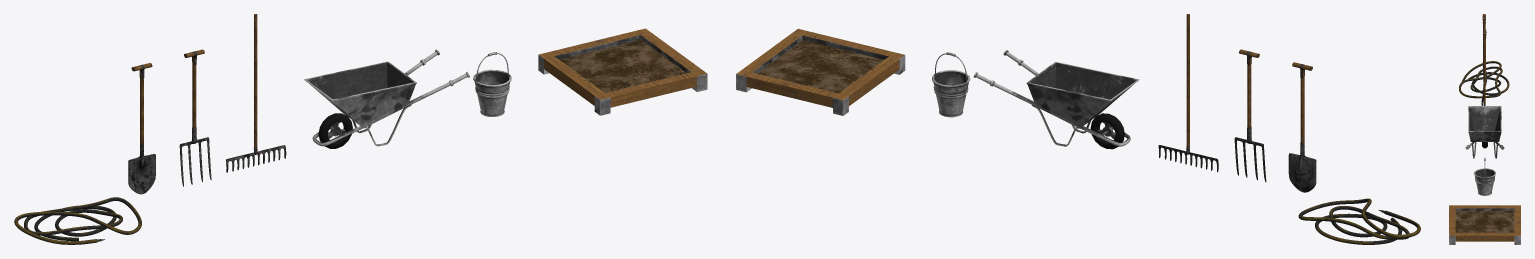
File: garden_tools_pack.glb
The picture shows the model from 3 angles, left to right: view 1: azimuth 30°, elevation 25°; view 2: azimuth 150°, elevation 25°; view 3: azimuth 270°, elevation 25°; orthographic projection. The views are drawn at different scales.
Parts seen in each view (by area): view 1: Cube.001, Cube.003, Cube.002, NurbsPath.003, Cylinder.018, Plane, NurbsPath, Cylinder.015, Plane.001, Plane.002, Cylinder.014; view 2: Cube.001, Cube.003, Cube.002, NurbsPath.003, Cylinder.018, Plane, NurbsPath, Cylinder.015, Plane.001, Cylinder.014, Plane.002; view 3: Cube.001, Cube.002, Cube.003, NurbsPath.003, Cylinder.018, Cylinder.014, NurbsPath.001, Cylinder.007, NurbsPath.
Boxes of the visible parts, bbox=[...] form: Cube.001: bbox=[538, 28, 707, 115]; Cube.003: bbox=[304, 61, 416, 127]; Cube.002: bbox=[559, 39, 686, 92]; NurbsPath.003: bbox=[14, 197, 141, 244]; Cylinder.018: bbox=[473, 69, 511, 116]; Plane: bbox=[128, 143, 155, 194]; NurbsPath: bbox=[312, 49, 469, 146]; Cylinder.015: bbox=[318, 113, 352, 148]; Plane.001: bbox=[179, 127, 211, 186]; Plane.002: bbox=[226, 145, 286, 172]; Cylinder.014: bbox=[254, 14, 257, 147]; Cube.001: bbox=[736, 28, 905, 115]; Cube.003: bbox=[1026, 62, 1139, 127]; Cube.002: bbox=[757, 40, 883, 93]; NurbsPath.003: bbox=[1298, 198, 1420, 244]; Cylinder.018: bbox=[932, 70, 970, 117]; Plane: bbox=[1288, 142, 1316, 192]; NurbsPath: bbox=[973, 50, 1130, 146]; Cylinder.015: bbox=[1090, 113, 1124, 149]; Plane.001: bbox=[1234, 127, 1266, 181]; Cylinder.014: bbox=[1186, 14, 1189, 147]; Plane.002: bbox=[1158, 145, 1218, 172]; Cube.001: bbox=[1449, 205, 1520, 244]; Cube.002: bbox=[1455, 211, 1514, 232]; Cube.003: bbox=[1468, 106, 1501, 141]; NurbsPath.003: bbox=[1459, 61, 1509, 98]; Cylinder.018: bbox=[1473, 168, 1496, 195]; Cylinder.014: bbox=[1483, 35, 1485, 105]; NurbsPath.001: bbox=[1472, 142, 1497, 158]; Cylinder.007: bbox=[1483, 36, 1485, 74]; NurbsPath: bbox=[1465, 142, 1504, 149].
Bounding box in the file's own units: 1220 × 303 × 200.
7 materials, 7 textured.
